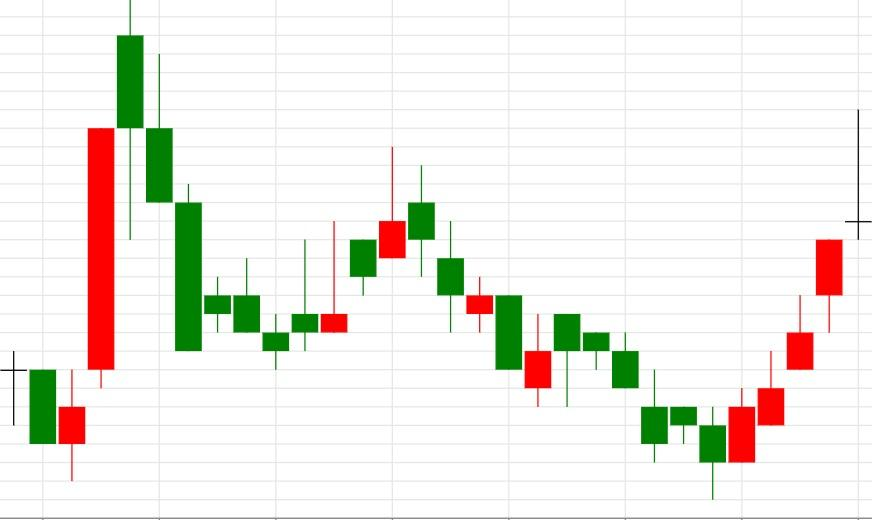three_black_crows_fall: (58, 0, 202, 482)
